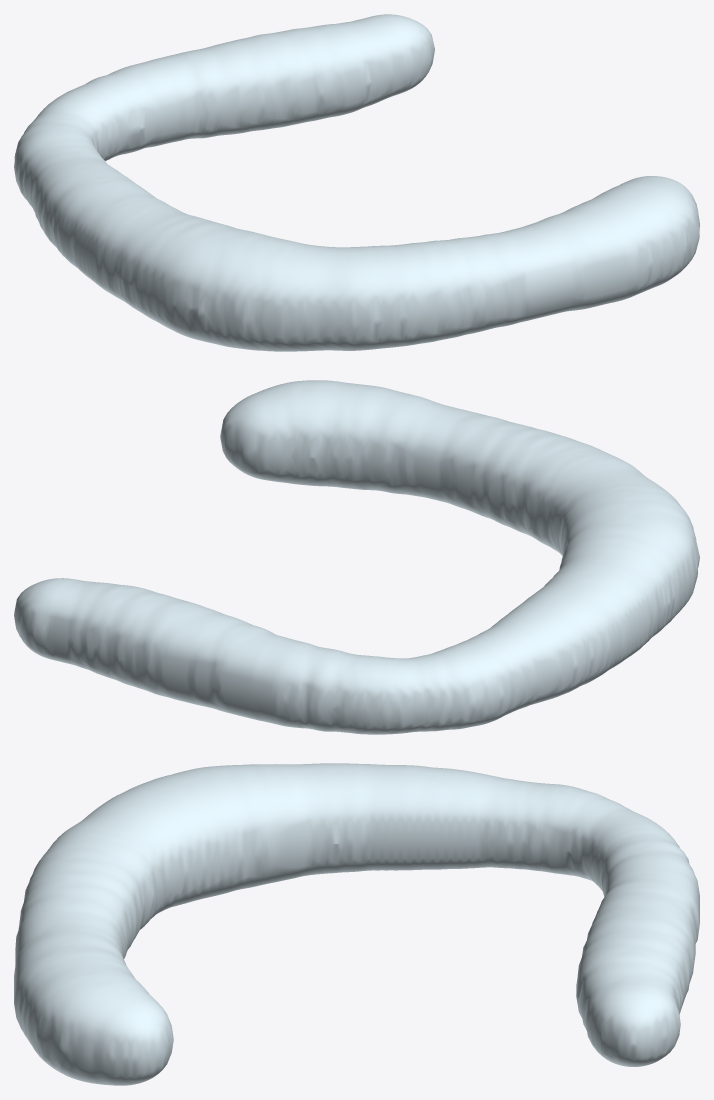
Rendered from Snow Divider C.fbx.
The picture shows the model from 3 angles, top to bottom: view 1: azimuth 30°, elevation 25°; view 2: azimuth 150°, elevation 25°; view 3: azimuth 270°, elevation 25°; orthographic projection. The views are drawn at different scales.
Parts seen in each view (by area): view 1: root; view 2: root; view 3: root.
Boxes of the visible parts, x1,y1,x2,y2 form: root: [14, 14, 699, 351]; root: [14, 380, 699, 734]; root: [14, 763, 699, 1085].
Size of the model in its own units: 0.4117 by 0.0758 by 0.4456.
Materials: 1 (1 with a texture image).
